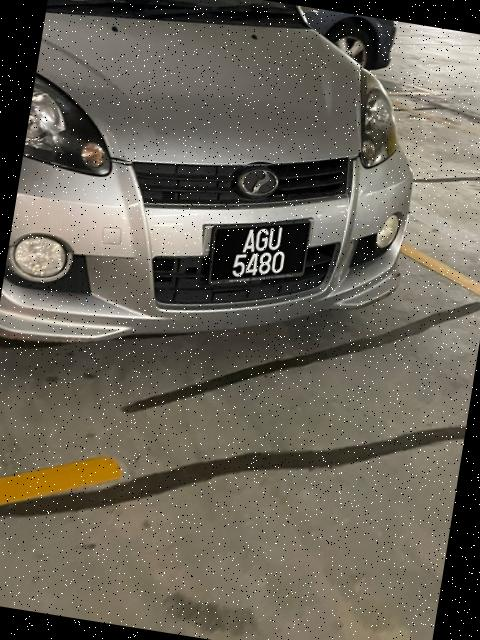License_Plate: (215, 204, 310, 289)
car: (1, 1, 444, 400)
